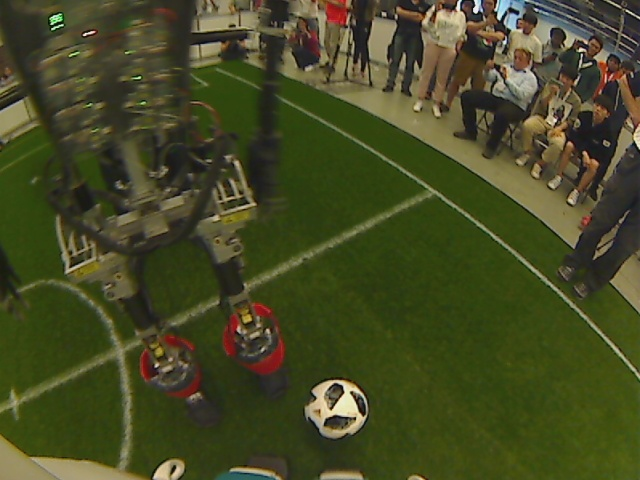ball: (300, 376, 371, 442)
robot: (1, 5, 292, 430)
